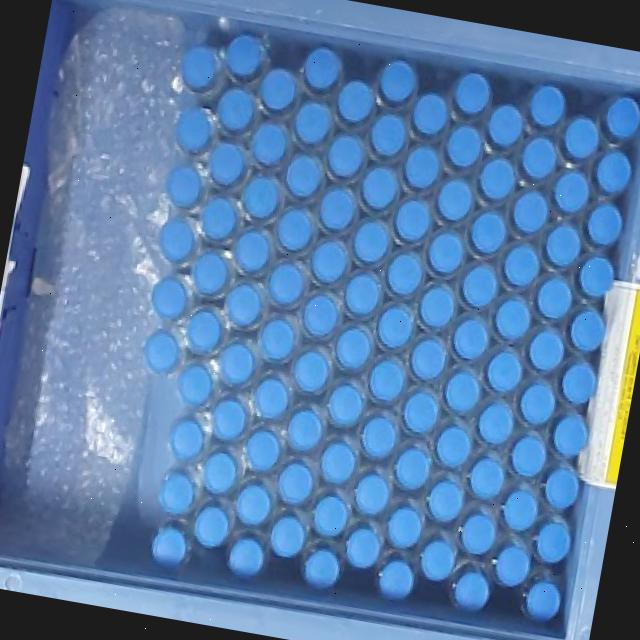vials: (258, 315, 298, 363), (293, 101, 332, 146), (175, 107, 213, 153), (303, 47, 341, 92), (216, 88, 254, 133), (327, 134, 365, 179), (226, 34, 265, 77), (379, 60, 417, 104), (259, 68, 296, 113), (201, 196, 238, 241), (234, 229, 271, 274), (143, 329, 180, 374), (336, 80, 373, 124), (361, 166, 398, 210), (208, 142, 245, 186), (242, 175, 279, 219), (191, 252, 228, 296), (225, 283, 262, 327), (595, 150, 631, 195), (370, 113, 406, 158), (553, 169, 589, 214), (319, 187, 355, 232), (502, 487, 538, 532), (544, 464, 579, 510), (453, 72, 490, 115), (445, 125, 482, 168), (285, 154, 322, 197), (544, 224, 581, 267), (394, 199, 431, 242), (527, 329, 564, 372), (529, 84, 565, 128), (487, 104, 523, 148), (520, 136, 556, 180), (586, 202, 622, 246), (512, 190, 548, 234), (437, 178, 473, 222), (166, 164, 202, 208), (503, 243, 539, 287), (311, 240, 347, 284), (519, 381, 555, 425), (444, 370, 480, 414), (377, 305, 413, 349), (335, 326, 371, 370), (158, 471, 194, 515), (182, 46, 217, 91), (227, 536, 265, 577), (411, 94, 448, 136), (479, 157, 515, 200), (251, 123, 287, 166), (578, 255, 614, 298), (277, 208, 313, 251), (461, 265, 497, 308), (386, 252, 422, 295), (151, 277, 187, 320), (344, 273, 380, 316), (452, 317, 488, 360), (302, 294, 338, 337), (552, 414, 588, 457), (435, 425, 471, 468), (394, 447, 430, 490), (312, 494, 348, 537), (605, 96, 640, 140), (404, 146, 439, 190), (354, 220, 389, 264), (159, 218, 194, 262), (570, 308, 605, 352), (536, 276, 571, 320), (294, 349, 329, 393), (187, 309, 222, 353), (460, 511, 495, 555), (387, 505, 422, 549), (270, 514, 305, 558), (278, 461, 313, 505), (303, 547, 340, 588), (470, 212, 506, 254), (428, 232, 464, 274), (268, 264, 304, 306), (410, 338, 446, 380), (525, 579, 561, 621), (427, 480, 463, 522), (453, 569, 489, 611), (378, 558, 414, 600), (151, 525, 187, 567), (478, 401, 513, 444), (403, 390, 438, 433), (369, 358, 404, 401), (328, 384, 363, 427), (361, 415, 396, 458), (536, 520, 571, 563), (495, 543, 530, 586), (420, 538, 455, 581), (346, 526, 381, 569), (236, 482, 271, 525), (564, 116, 598, 160), (495, 298, 530, 340), (561, 362, 596, 404), (419, 286, 454, 328), (486, 350, 521, 392), (511, 435, 546, 477), (320, 441, 355, 483), (469, 457, 504, 499), (288, 408, 322, 451), (220, 342, 254, 385), (246, 428, 280, 471), (194, 504, 228, 547), (254, 377, 288, 419), (355, 473, 389, 515), (213, 398, 246, 441), (170, 417, 203, 460), (178, 364, 211, 406), (203, 451, 236, 493)
